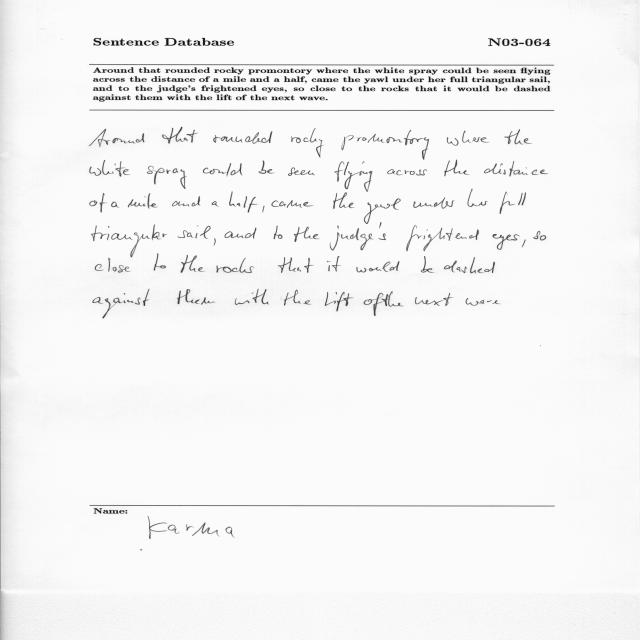word: (341, 130, 429, 160), (92, 225, 168, 258), (406, 226, 479, 252), (93, 289, 150, 318), (330, 223, 386, 251), (335, 161, 373, 192), (363, 291, 404, 316), (89, 129, 145, 147), (364, 198, 401, 224), (484, 161, 548, 176), (291, 128, 324, 157), (147, 166, 187, 189), (444, 257, 495, 274), (445, 160, 473, 190), (214, 131, 273, 144), (90, 160, 130, 176), (447, 131, 489, 146), (162, 127, 198, 144), (229, 192, 258, 213), (177, 289, 215, 305), (499, 192, 526, 214), (203, 163, 243, 177), (278, 257, 313, 273), (217, 258, 254, 273), (235, 289, 269, 305), (96, 258, 131, 273), (357, 261, 400, 273), (415, 293, 453, 306), (128, 193, 157, 209), (413, 198, 455, 209), (178, 225, 211, 239), (492, 234, 520, 250), (181, 255, 205, 273), (284, 290, 311, 306), (504, 130, 532, 145), (294, 227, 320, 242), (334, 192, 355, 209), (225, 228, 257, 239), (272, 200, 314, 208), (467, 191, 488, 207), (90, 193, 107, 212), (337, 292, 354, 311), (172, 197, 201, 207), (288, 167, 315, 176), (387, 169, 427, 175), (258, 160, 275, 174), (421, 256, 434, 273), (327, 256, 340, 272), (466, 298, 492, 306), (154, 254, 166, 271), (325, 292, 337, 306), (534, 231, 547, 241), (274, 226, 283, 239), (111, 202, 120, 208), (212, 201, 218, 207), (522, 240, 526, 248), (492, 300, 500, 304), (214, 238, 216, 246), (263, 206, 265, 213)
